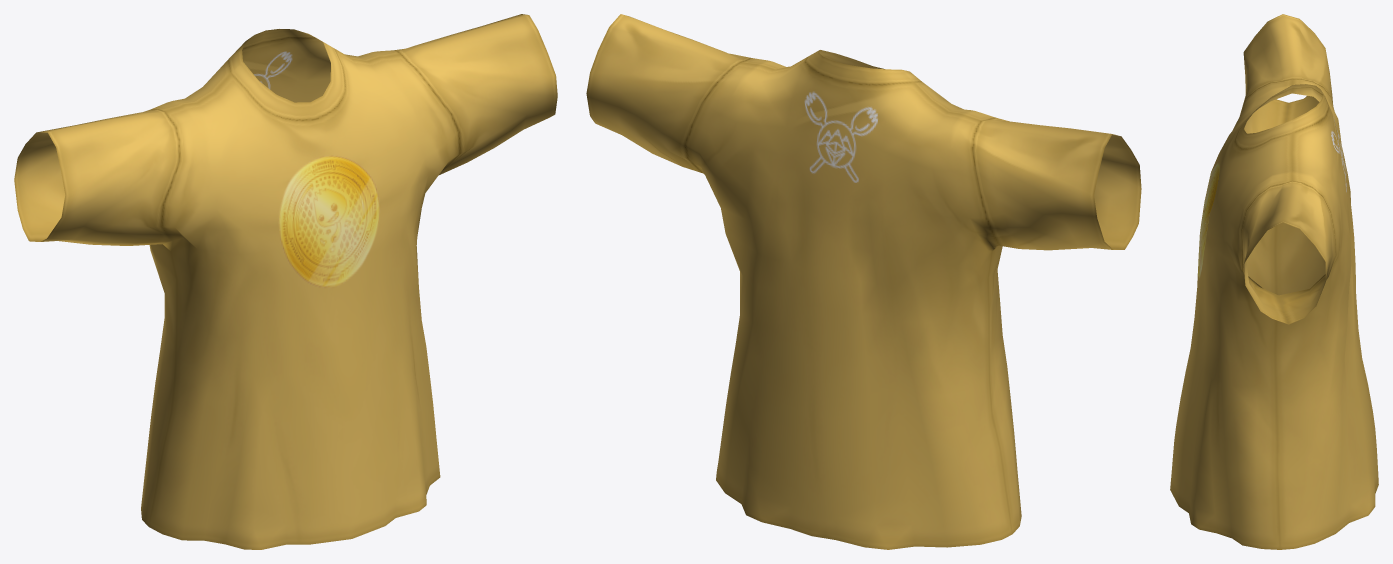
The model's file is 93_tshirt_t.glb.
The picture shows the model from 3 angles, left to right: view 1: azimuth 30°, elevation 25°; view 2: azimuth 150°, elevation 25°; view 3: azimuth 270°, elevation 25°; orthographic projection. The views are drawn at different scales.
Parts seen in each view (by area): view 1: tshirt_apose; view 2: tshirt_apose; view 3: tshirt_apose.
Part boxes in pixels (left/top/right/bottom): tshirt_apose: left=14, top=14, right=557, bottom=549; tshirt_apose: left=586, top=14, right=1141, bottom=549; tshirt_apose: left=1170, top=14, right=1378, bottom=549.
Bounding box in the file's own units: 0.8467 × 0.704 × 0.3368.
1 material, 1 textured.
